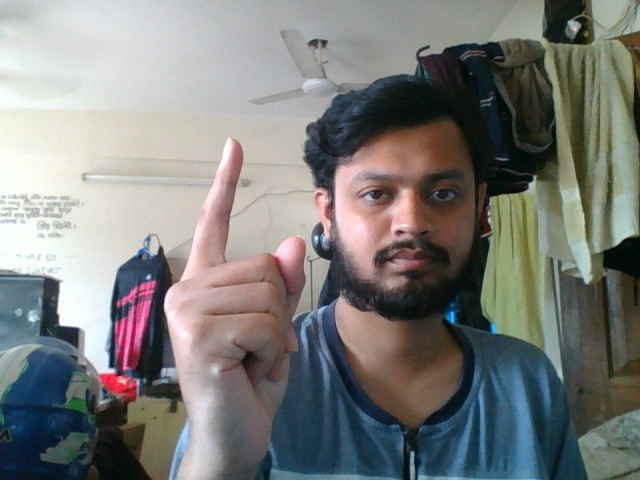u: (160, 129, 318, 450)
